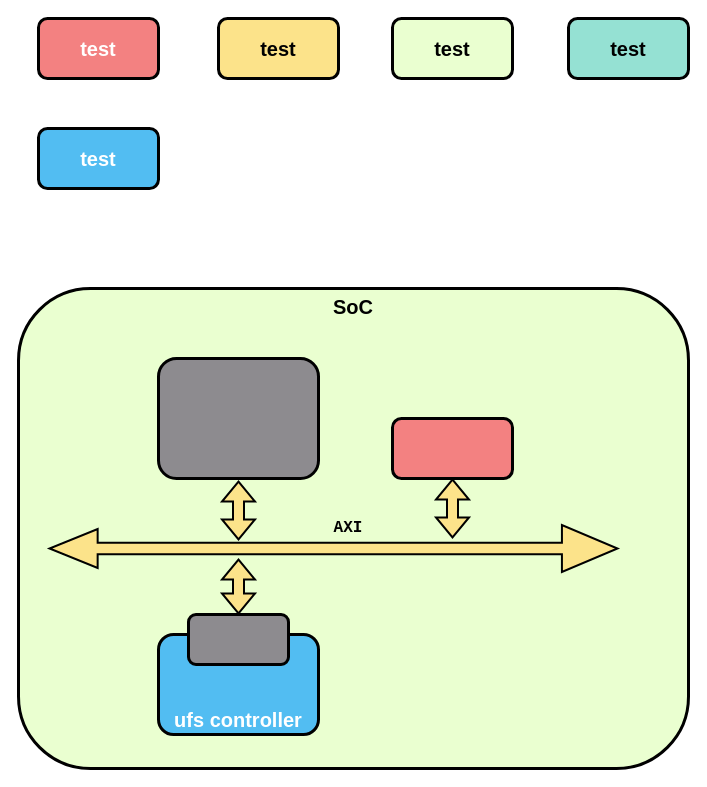
This 707x787 diagram has some shape labels left out. Here are the shapes that lost their labels. From the top down, the box of each, then its label:
(156, 356, 320, 480): cpu
(390, 416, 514, 480): dma
(186, 612, 290, 666): mcq
